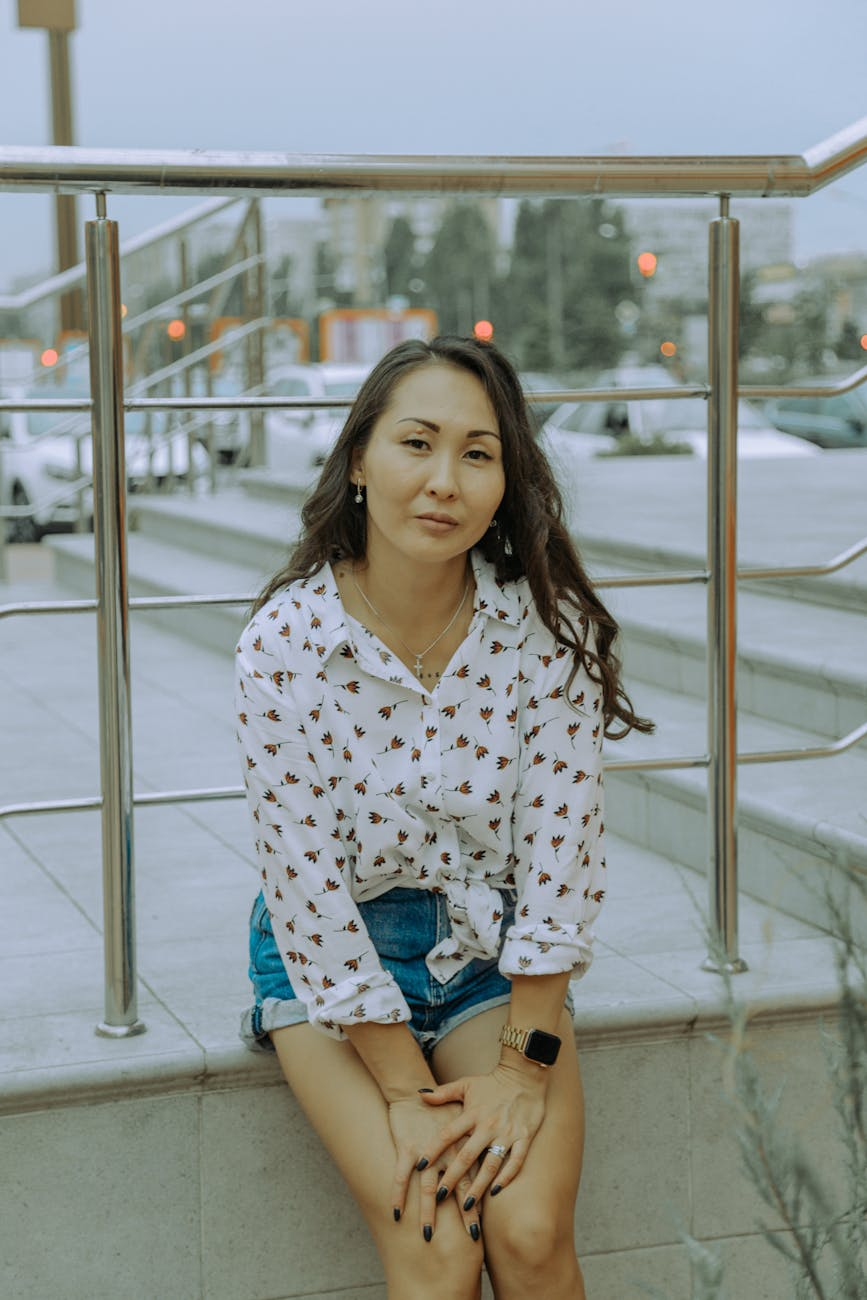shorts: (240, 876, 584, 1035)
